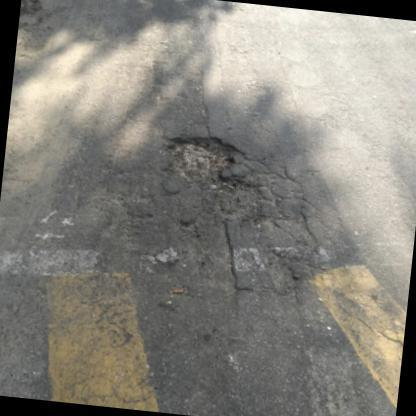pothole: (163, 133, 273, 233)
